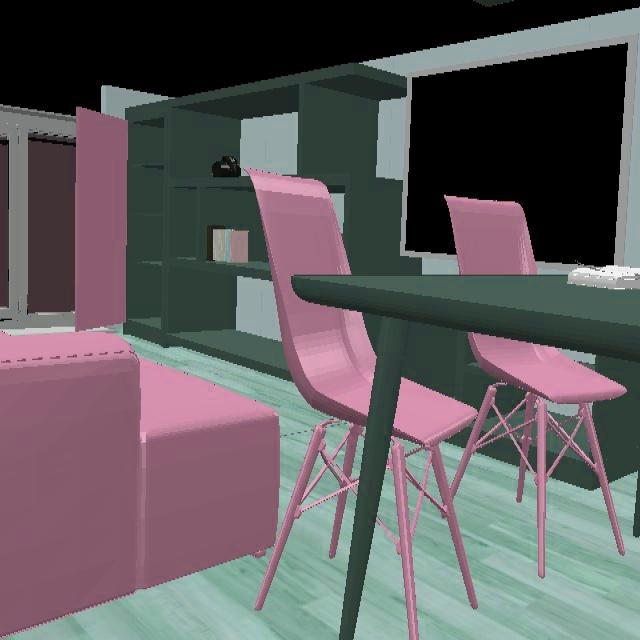book: (208, 228, 247, 262)
bookshelf: (125, 63, 420, 376)
chair: (388, 333, 625, 638), (248, 170, 376, 608), (448, 199, 535, 274)
monitor: (402, 43, 627, 264)
sofa: (0, 332, 278, 634)
table: (292, 275, 640, 638)
